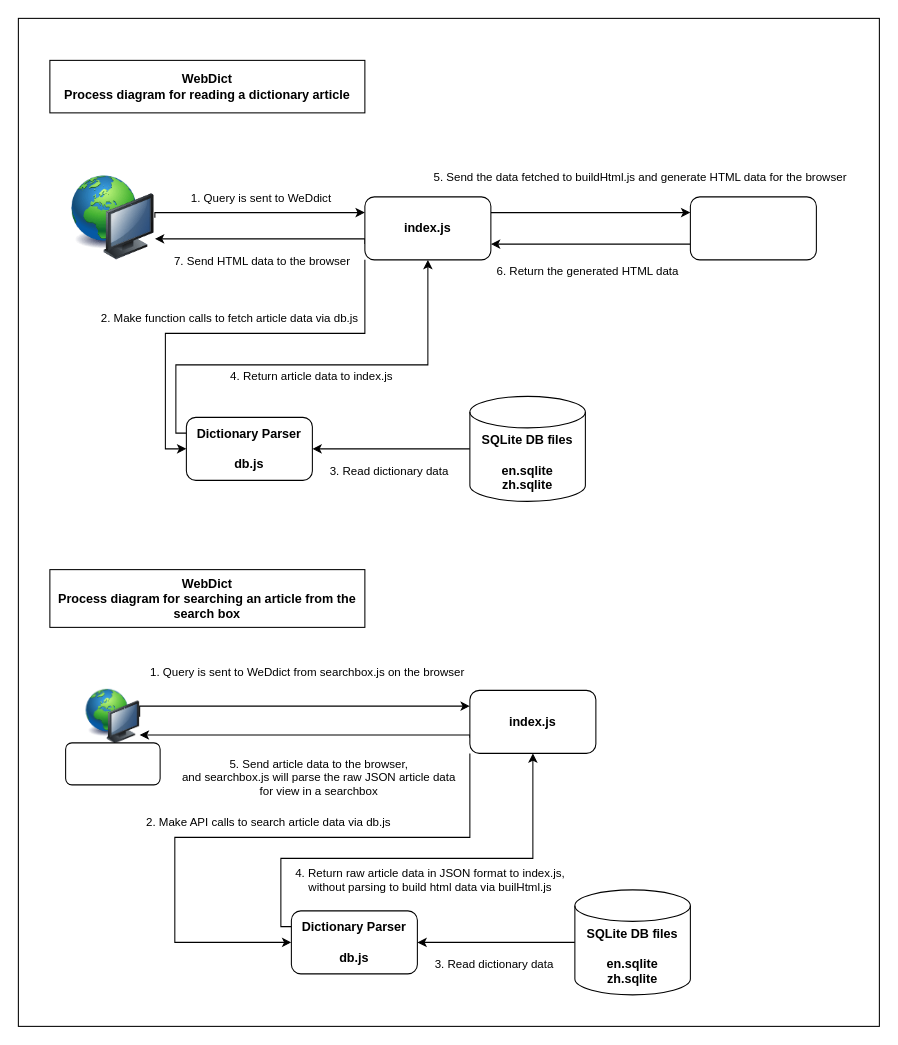
Image size: 898x1045. Some labels were removed from this diagram. The box of each missing label's shape, as (x1, y1, x2, y2) in pixels:
buildHtml.js: (689, 196, 816, 260)
searchbox.js: (65, 742, 160, 785)
